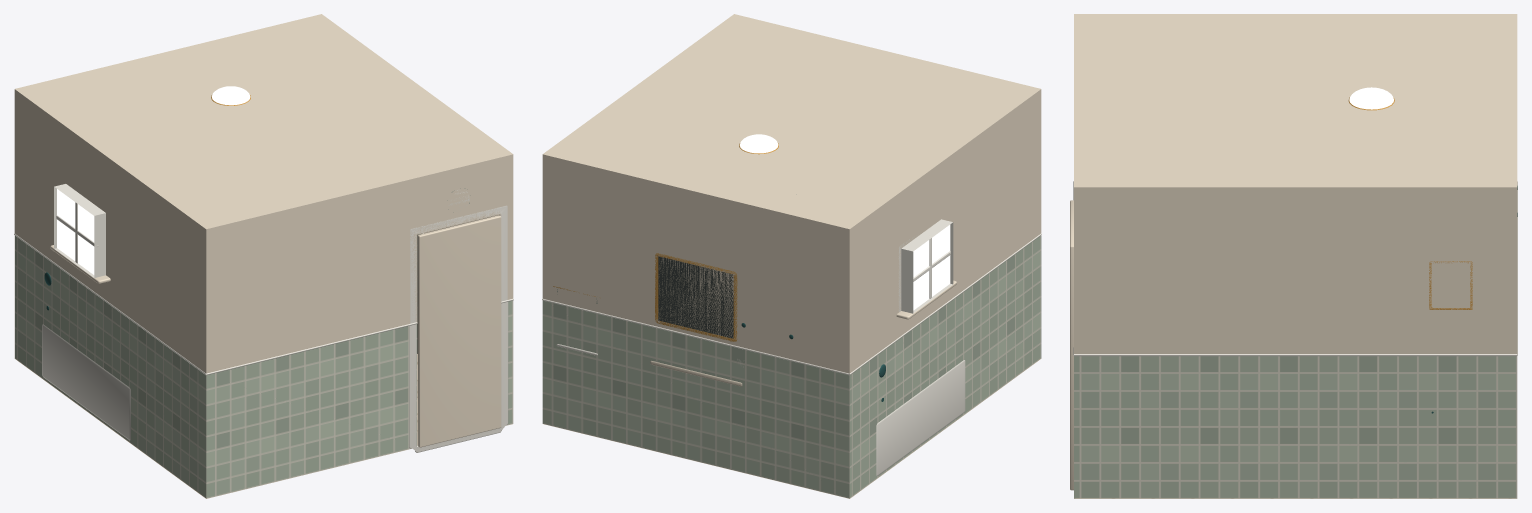
Rendered from bathroom_room.glb.
3 renders of one model, left to right at view 1: azimuth 30°, elevation 25°; view 2: azimuth 150°, elevation 25°; view 3: azimuth 270°, elevation 25°, orthographic. The views are drawn at different scales.
Visible parts, largest first — view 1: Ceiling, FrontPaint2, FrontTile1, DoorLeaf, LeftPaint0, LeftTile0, LeftPaint3, LeftTile2, TubShell, FrontPaint1, DoorCasing, LeftTile1 (+6 smaller); view 2: Ceiling, BackPaint0, BackTile0, LeftPaint0, LeftTile0, LeftPaint3, LeftTile2, MirrorBacking, TubShell, LeftTile1, LeftPaint2, Glass (+4 smaller); view 3: Ceiling, RightPaint0, RightTile0, RightTrim0, DoorLeaf, LampDome.
Part boxes in pixels (x1,y1,x2,y2): Ceiling: (15,14,512,229); FrontPaint2: (206,178,417,373); FrontTile1: (206,324,416,498); DoorLeaf: (417,215,501,447); LeftPaint0: (106,156,206,373); LeftTile0: (106,302,206,498); LeftPaint3: (14,89,65,270); LeftTile2: (15,236,66,395); TubShell: (42,324,130,440); FrontPaint1: (417,157,500,234); DoorCasing: (409,205,508,452); LeftTile1: (66,273,106,424); Ceiling: (543,14,1040,229); BackPaint0: (542,154,849,373); BackTile0: (542,300,849,498); LeftPaint0: (941,89,1041,306); LeftTile0: (941,236,1040,431); LeftPaint3: (849,192,901,373); LeftTile2: (849,338,900,498); MirrorBacking: (658,256,733,338); TubShell: (876,360,965,475); LeftTile1: (901,309,940,460); LeftPaint2: (901,162,941,248); Glass: (913,224,950,310); Ceiling: (1074,14,1517,187); RightPaint0: (1074,187,1517,353); RightTile0: (1074,356,1517,498); RightTrim0: (1074,354,1517,356); DoorLeaf: (1070,200,1073,490); LampDome: (1349,87,1393,109).
Bounding box in the file's own units: 3.23 × 2.73 × 3.39.
Materials: 42 (9 with a texture image).
